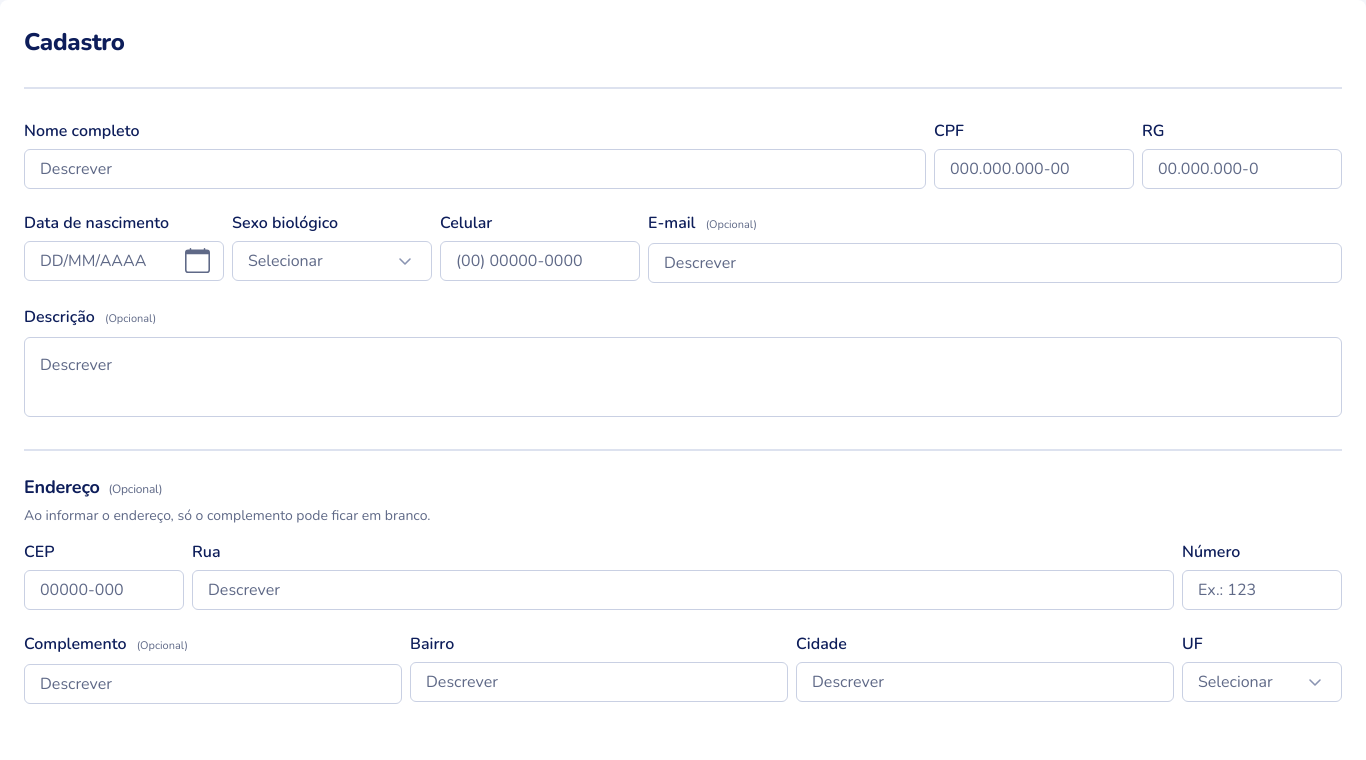
PatientForm › shows the duplicate-CPF error after blur (debounced) and announces it
This screenshot has width=1366, height=760.
Type "52998224725" into the field labelled "CPF" at (1034, 169), box [934,149,1134,189]
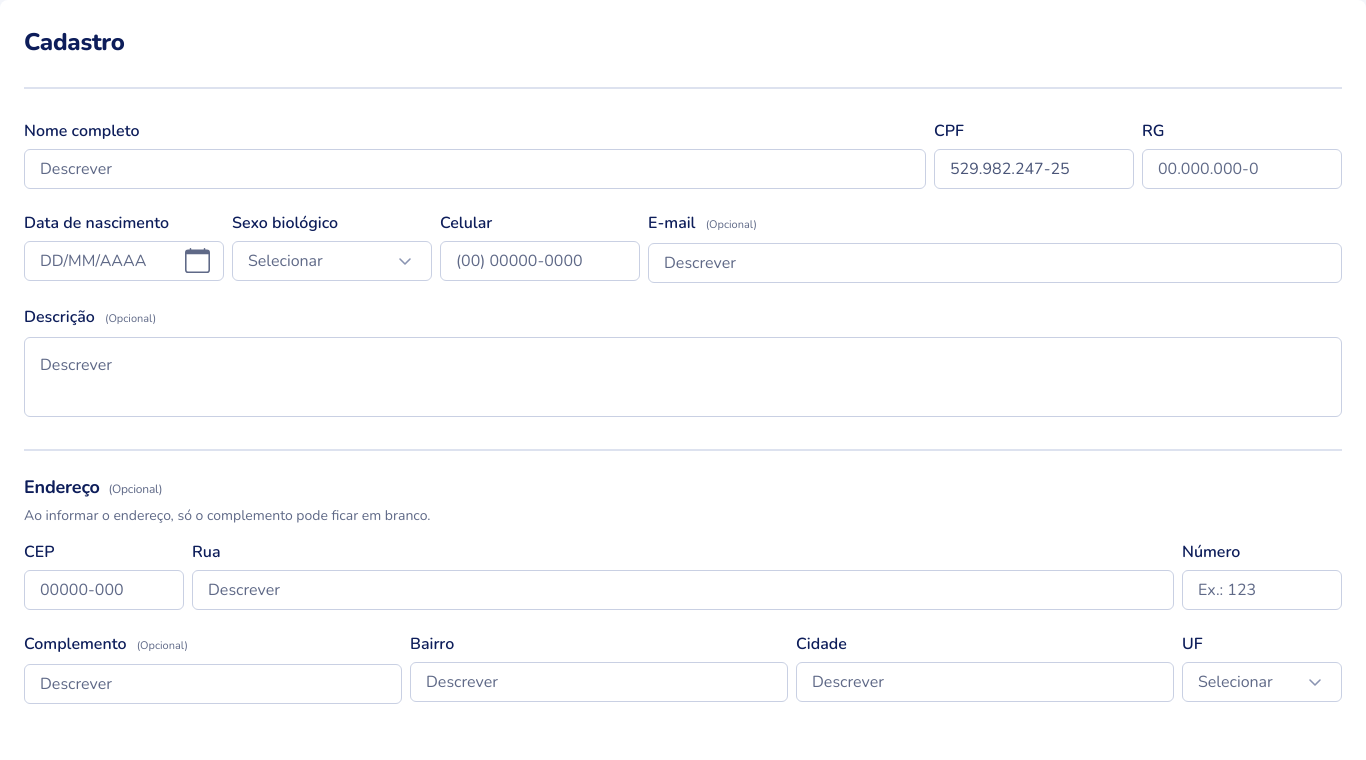
Leave the field labelled "CPF", box [934,149,1134,189]
Wait 300 ms
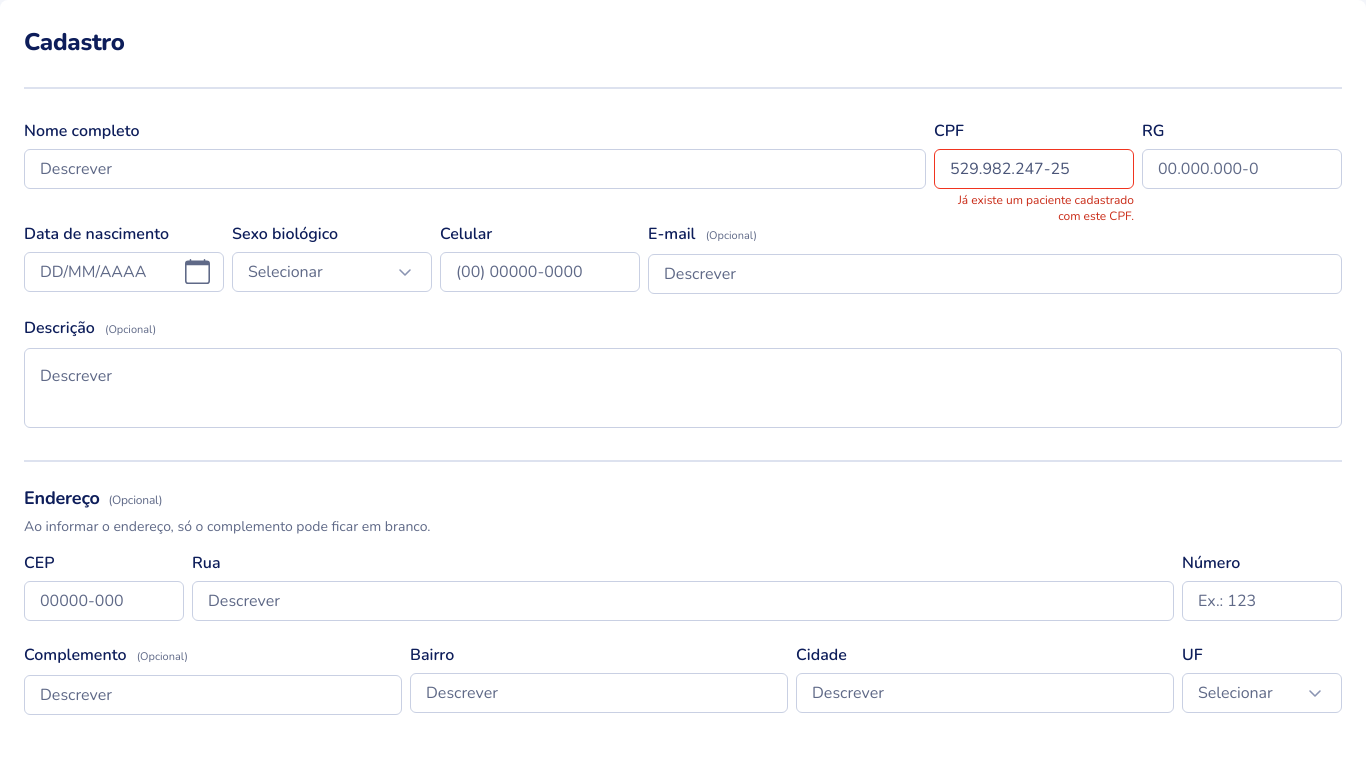
Check: the text "Já existe um paciente cadastrado com este CPF." is shown, box [934,192,1134,224]
